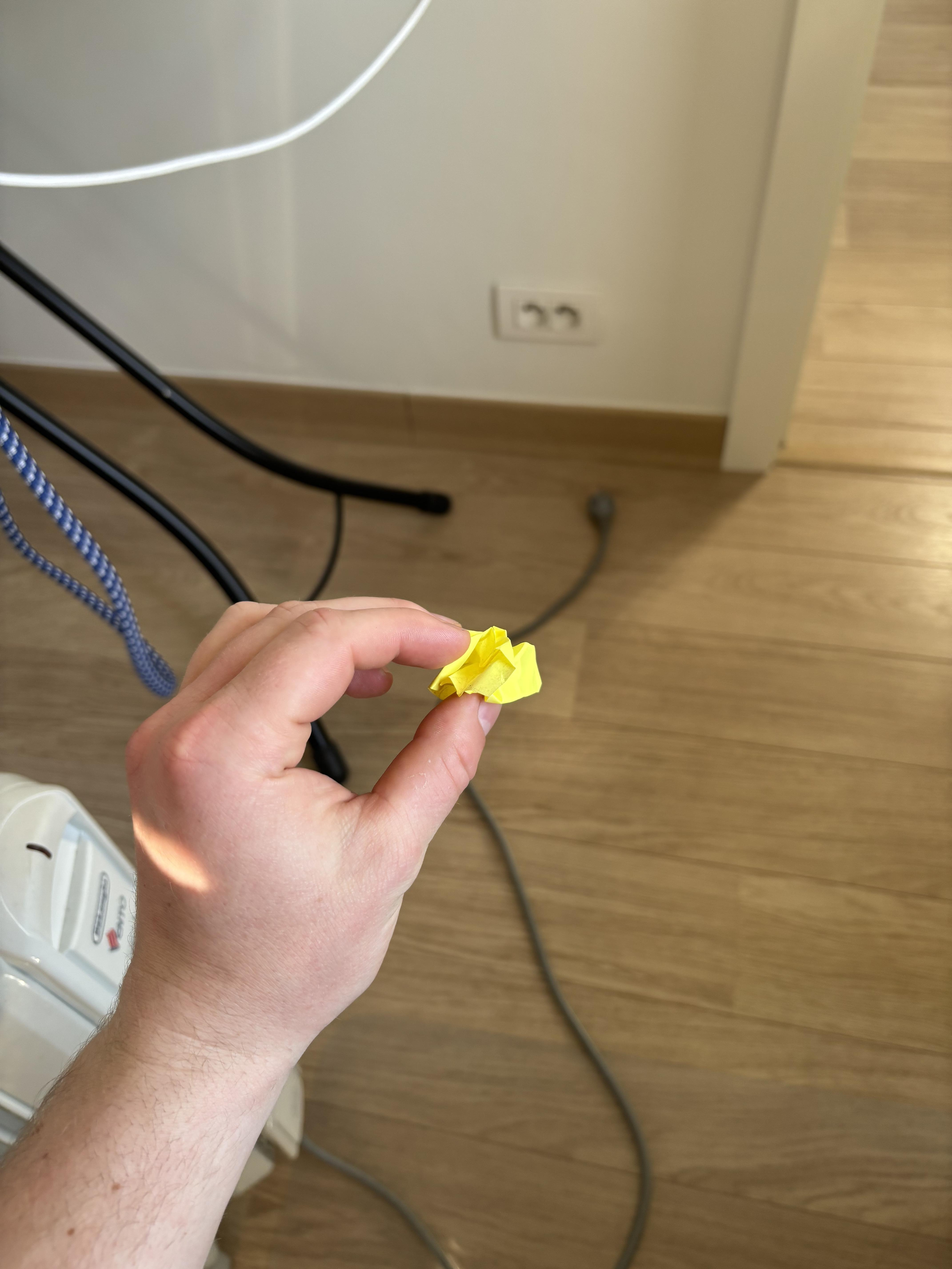Paper: (411, 611, 555, 735)
